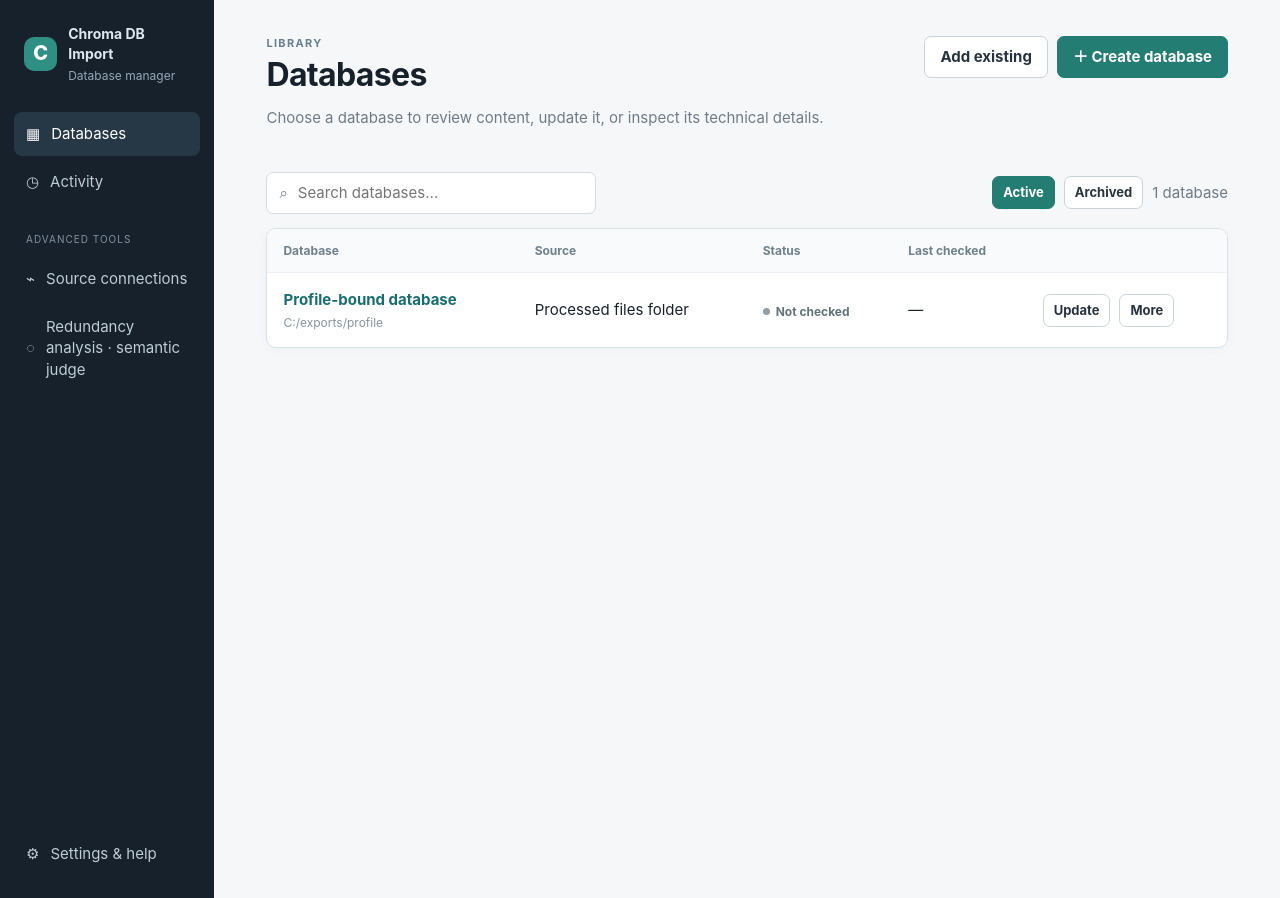
Test: modern database creation flow › blocks a profile mismatch with a separate-database action and compatibility details
expect the button "Profile-bound database" is shown: met, box [283,289,457,311]
Step 1. Click the button "Update" → (1076,310), box [1043,294,1110,326]
(page scrolled)
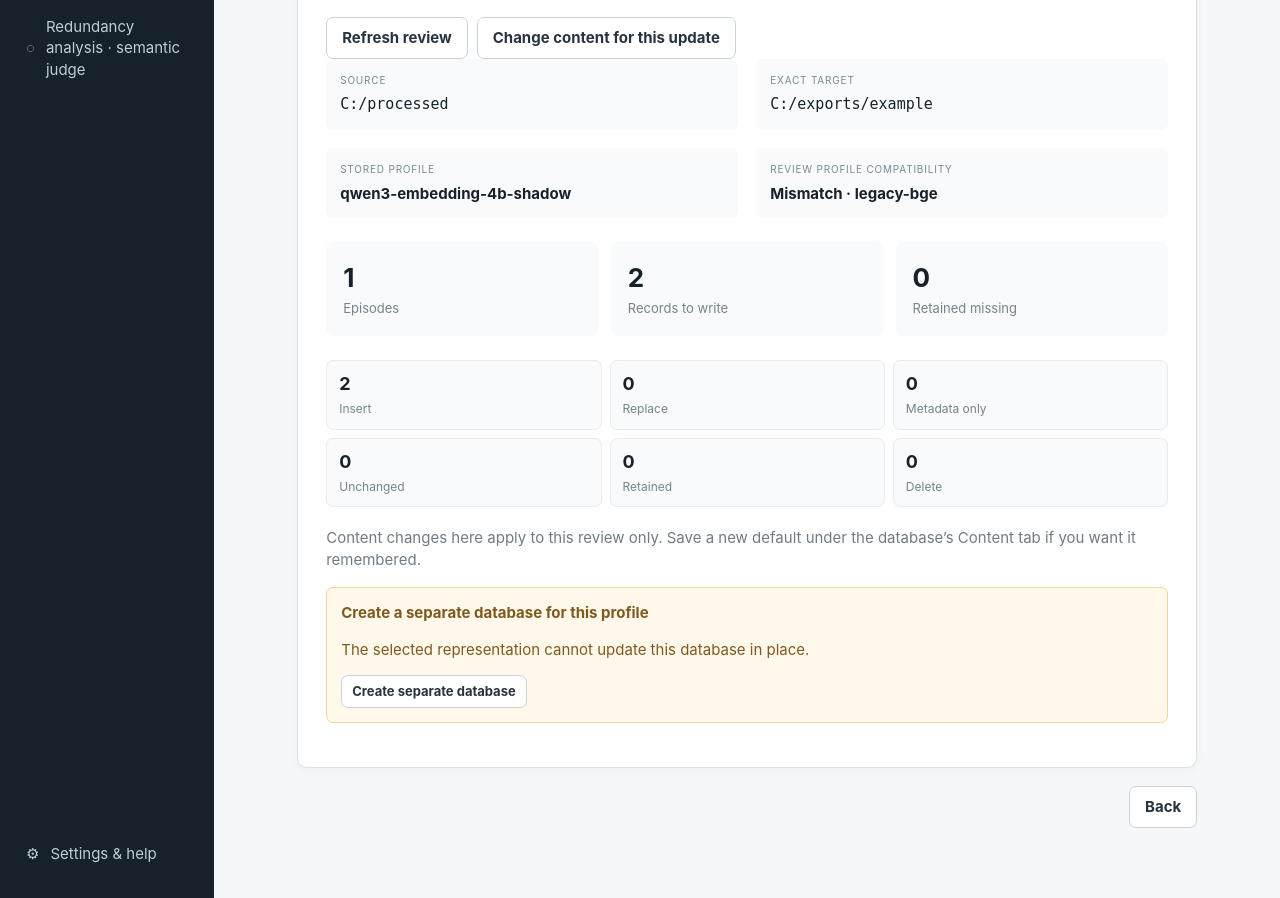
expect the text "Mismatch · legacy-bge" is shown: met, box [770,184,938,202]
expect the text "selected representation cannot update" is shown: met, box [341,640,809,659]
expect the button "Create separate database" is shown: met, box [341,675,527,708]
